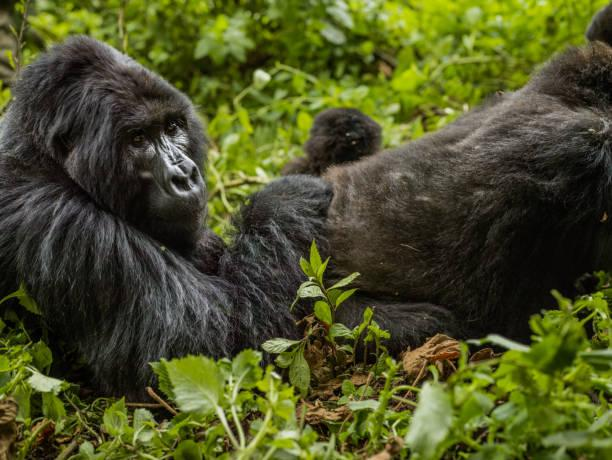goriile_montagne: (0, 24, 279, 367)
